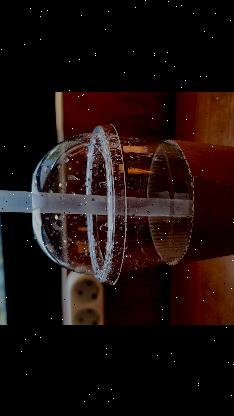Others: (29, 120, 234, 287), (34, 122, 128, 286), (0, 176, 194, 220), (0, 181, 198, 213)
